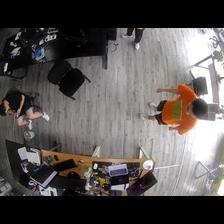normal: (139, 84, 207, 133)
